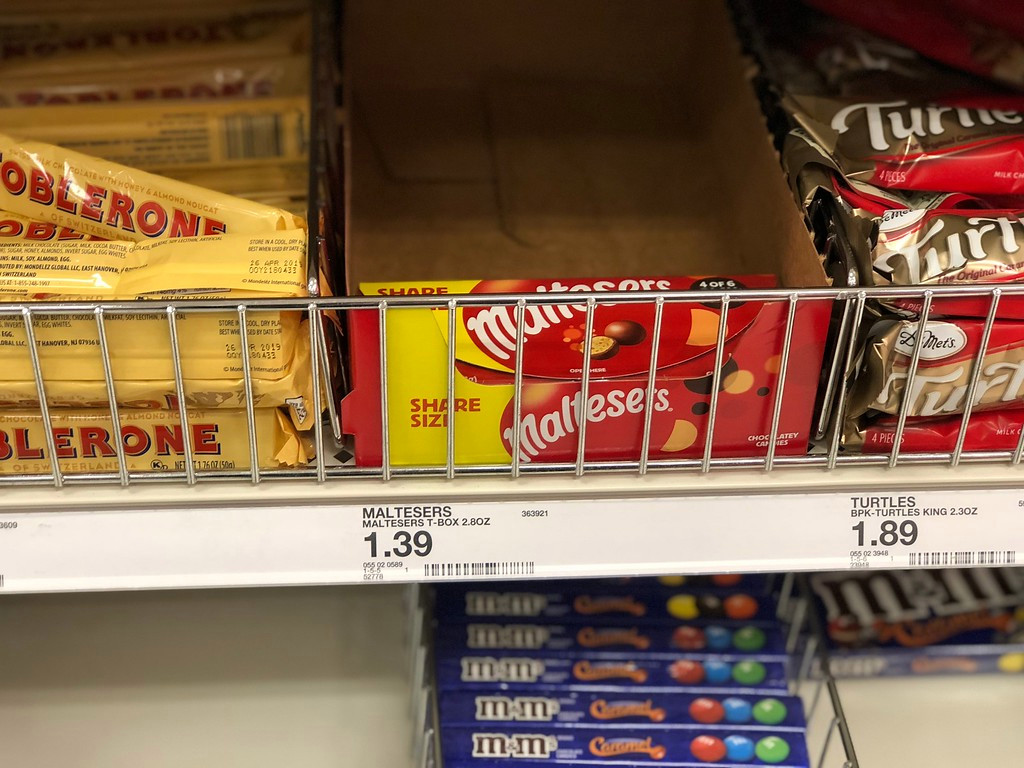Malteasers: (356, 281, 831, 471)
